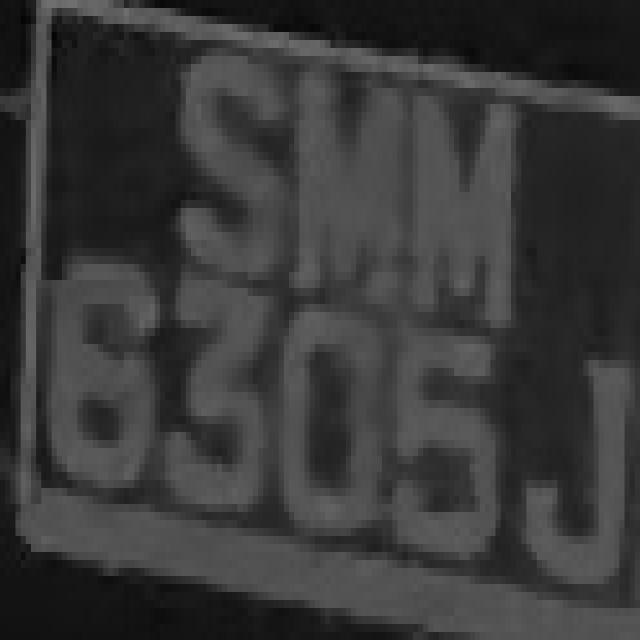0: (279, 256, 392, 544)
3: (155, 240, 279, 544)
5: (377, 328, 511, 600)
6: (46, 224, 150, 544)
J: (398, 312, 526, 592), (521, 349, 635, 602)
M: (278, 24, 402, 336), (392, 72, 532, 344)
S: (155, 8, 279, 288)
